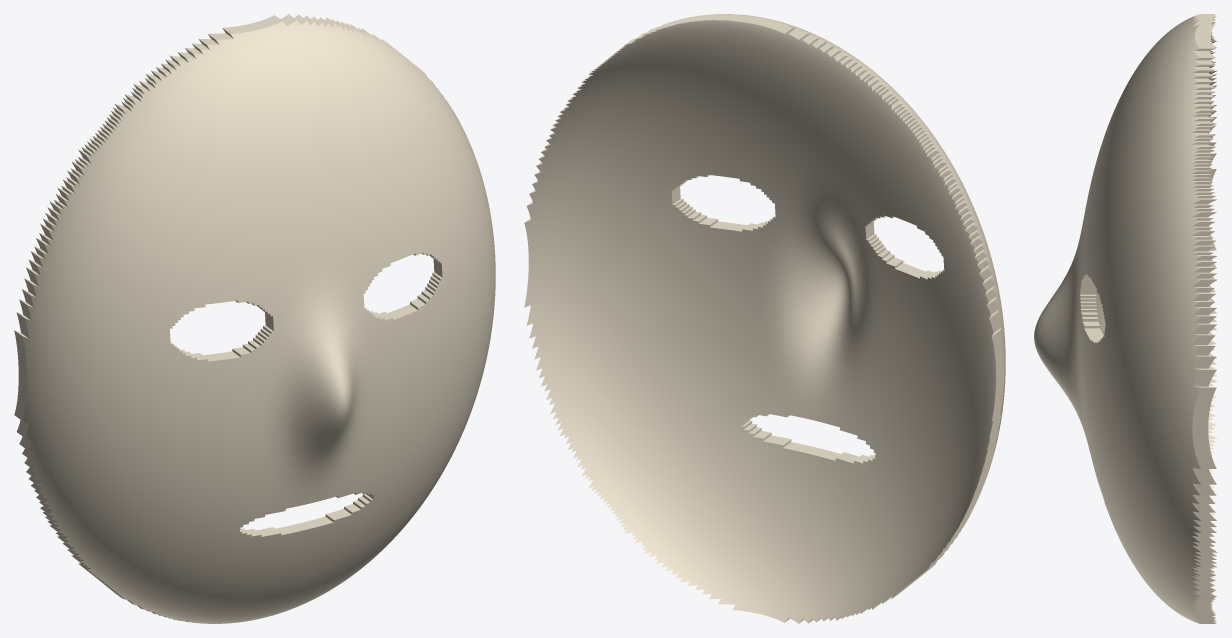
File: mask.obj
3 views of the same model, side by side, from view 1: azimuth 30°, elevation 25°; view 2: azimuth 150°, elevation 25°; view 3: azimuth 270°, elevation 25° (orthographic). The views are drawn at different scales.
Visible parts, largest first — view 1: mask; view 2: mask; view 3: mask.
Boxes of the visible parts, box(x1,y1,x2,y2) form: mask: box(14, 14, 495, 623); mask: box(524, 14, 1005, 623); mask: box(1034, 14, 1217, 623).
Bounding box in the file's own units: 1.96 × 2.36 × 0.6961.
